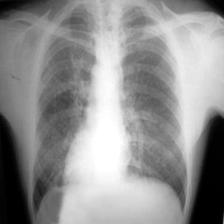tuberculosis: (25, 4, 191, 224)
